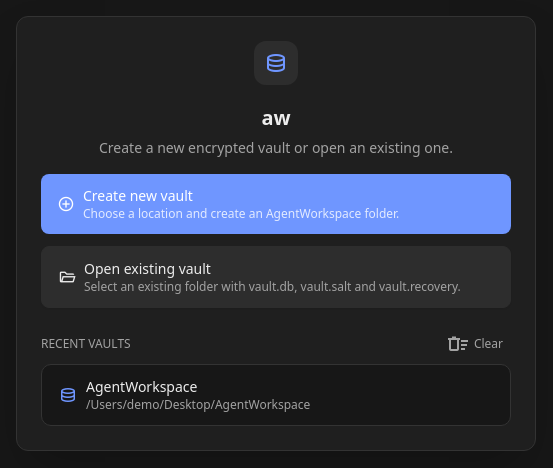
Test: VaultGate › clears the recent vaults list without touching disk vaults
Expected: the text "Recent vaults" is shown, [41,336,131,352]
Click the button "Clear" at (474, 344), box [438,332,511,356]
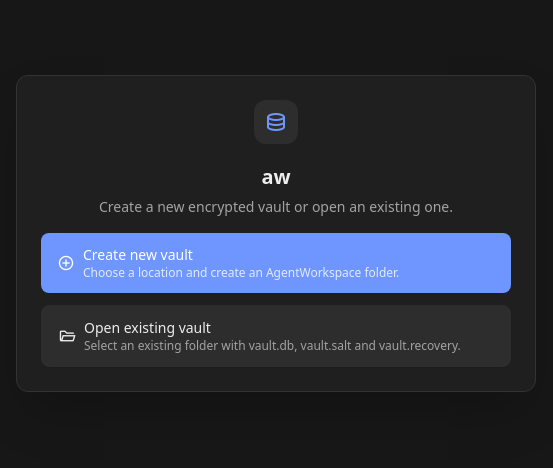
Expected: the text "Recent vaults" is gone
